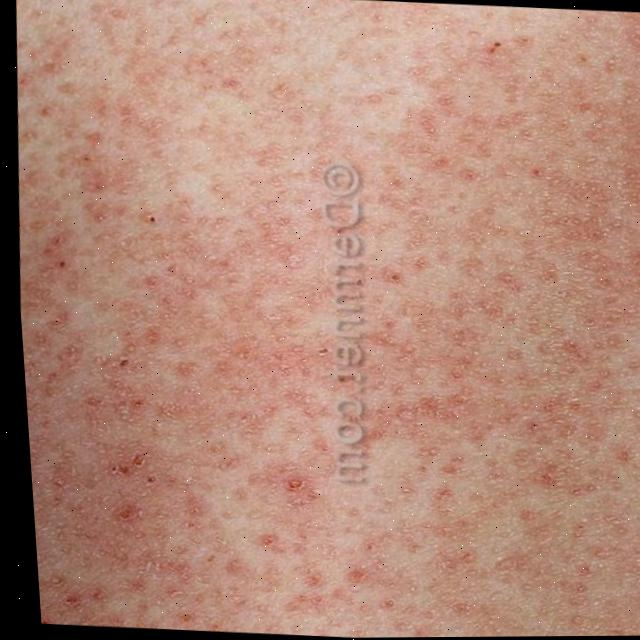Eczema: (0, 0, 619, 635)
